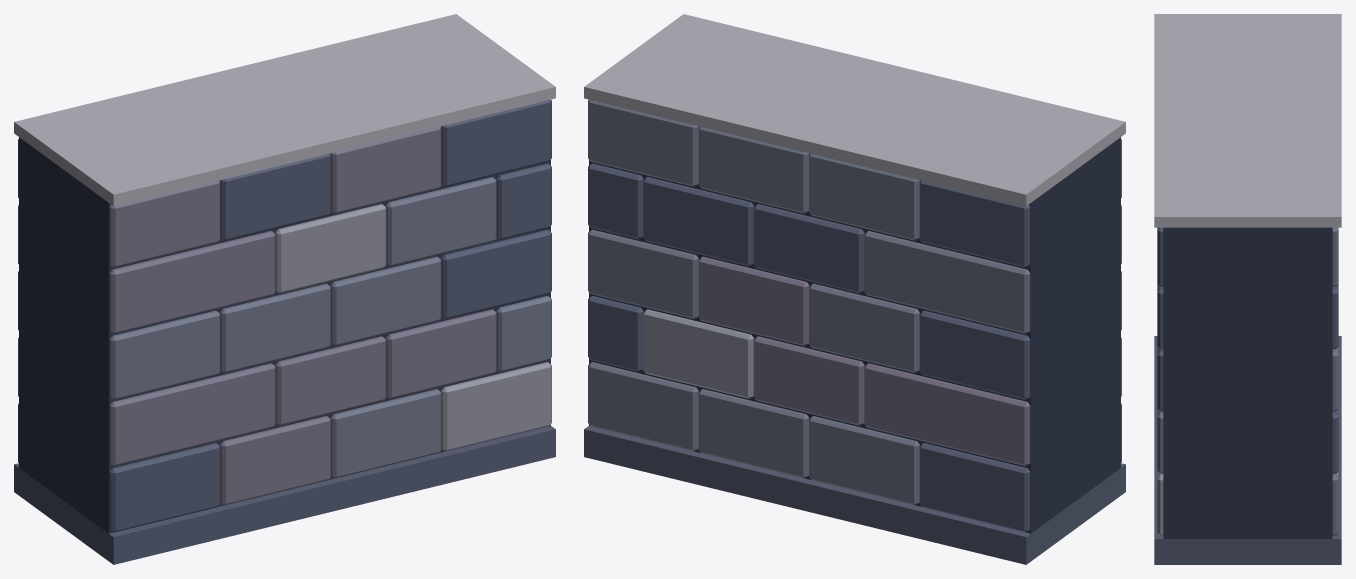
File: EG_Muralla_4m.fbx
The picture shows the model from 3 angles, left to right: view 1: azimuth 30°, elevation 25°; view 2: azimuth 150°, elevation 25°; view 3: azimuth 270°, elevation 25°; orthographic projection. The views are drawn at different scales.
Visible parts, largest first — view 1: EG_Muralla_4m; view 2: EG_Muralla_4m; view 3: EG_Muralla_4m.
Boxes of the visible parts, box(x1,y1,x2,y2) form: EG_Muralla_4m: box(14, 14, 555, 564); EG_Muralla_4m: box(584, 14, 1125, 564); EG_Muralla_4m: box(1154, 14, 1341, 564).
Bounding box in the file's own units: 4 × 3.2 × 1.56.
1 material, 1 textured.
